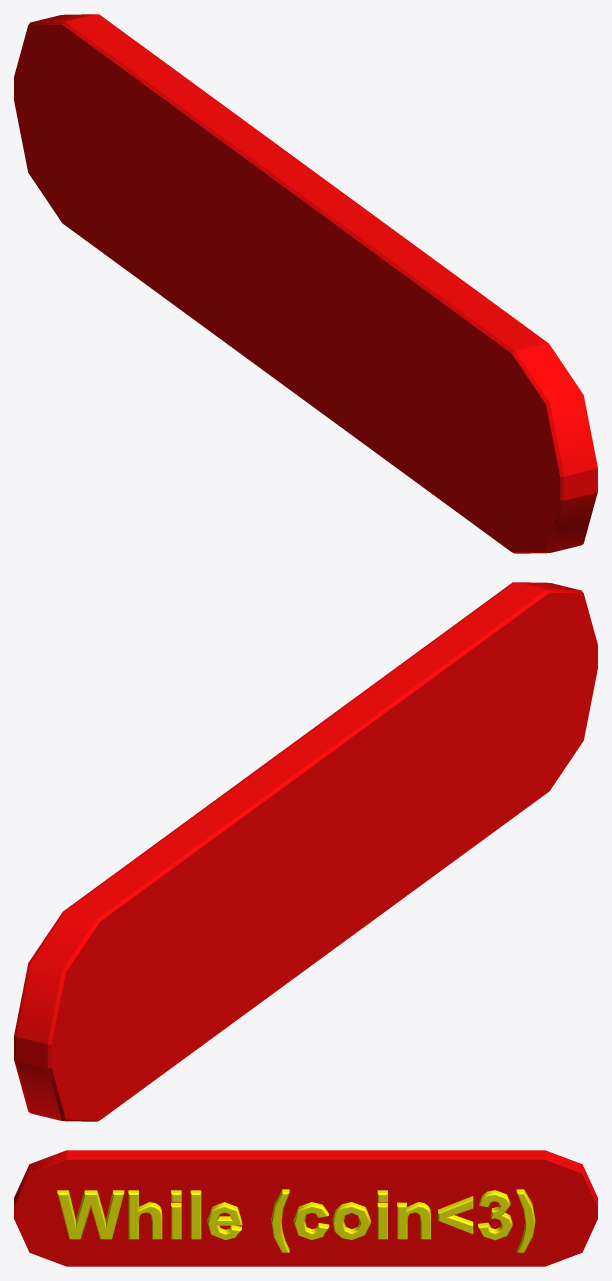
Rendered from whileCoin.FBX.
3 views of the same model, one above another, from view 1: azimuth 30°, elevation 25°; view 2: azimuth 150°, elevation 25°; view 3: azimuth 270°, elevation 25° (orthographic). The views are drawn at different scales.
Visible parts, largest first — view 1: While_Coin; view 2: While_Coin; view 3: While_Coin.
Part boxes in pixels (x1,y1,x2,y2): While_Coin: (14, 14, 597, 553); While_Coin: (14, 582, 597, 1121); While_Coin: (14, 1150, 597, 1266).
Size of the model in its own units: 101 by 381 by 1867.
